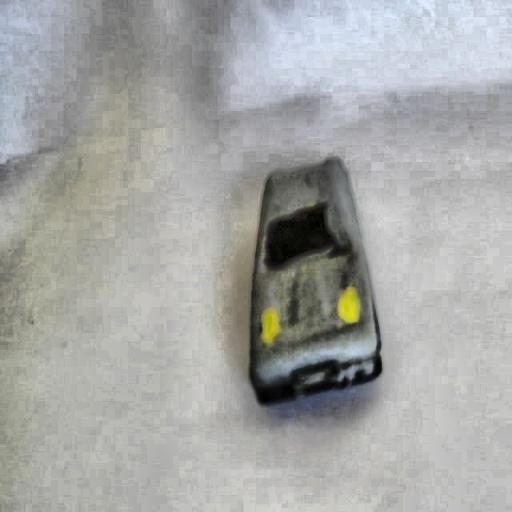normal_car: (246, 156, 388, 408)
